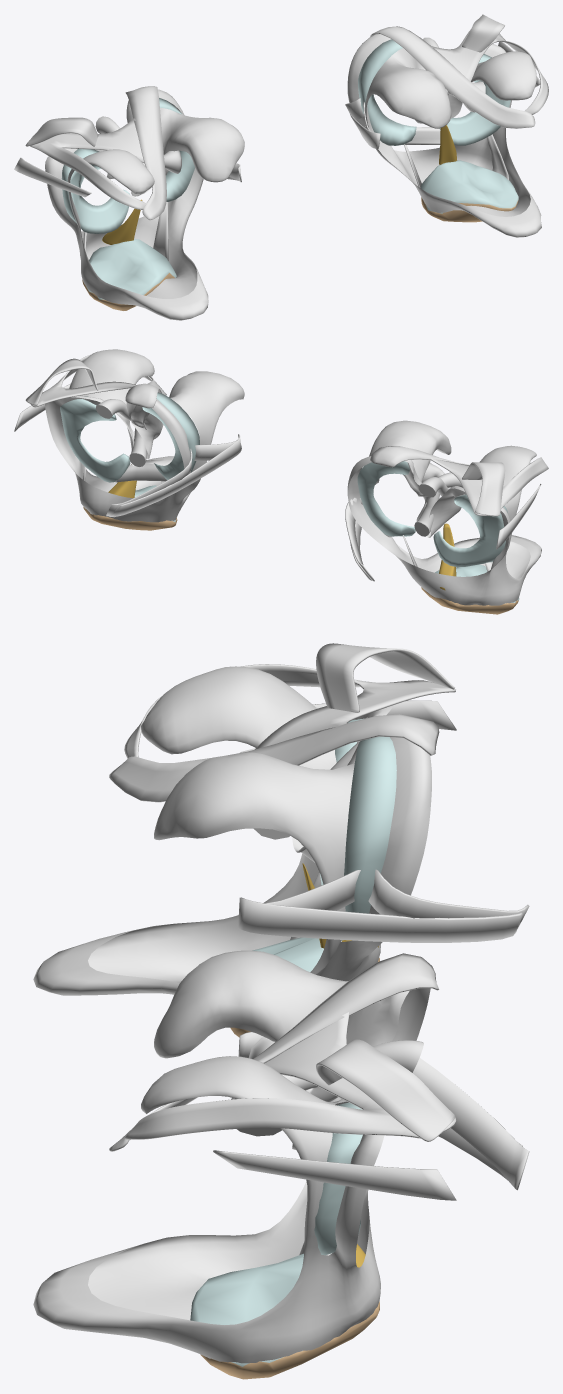
File: Knee.fbx
3 views of the same model, one above another, from view 1: azimuth 30°, elevation 25°; view 2: azimuth 150°, elevation 25°; view 3: azimuth 270°, elevation 25° (orthographic). The views are drawn at different scales.
Visible parts, largest first — view 1: Articular_capsule_of_knee_joint.r_Generated_Mesh_From_X3D.11, Articular_capsule_of_knee_joint.l_Generated_Mesh_From_X3D.11, Patella.l_Generated_Mesh_From_X3D.277, Oblique_popliteal_ligament.l_Plane.184, Patella.r_Generated_Mesh_From_X3D.277, Arcuate_ligament.r_Plane.232, Oblique_popliteal_ligament.r_Plane.184, Medial_meniscus.l_Generated_Mesh_From_X3D.047, Lateral_meniscus.r_Generated_Mesh_From_X3D.049, Arcuate_ligament.l_Plane.232, Lateral_meniscus.l_Generated_Mesh_From_X3D.049, Popliteofibular_ligament.r_Plane.164 (+9 smaller); view 2: Articular_capsule_of_knee_joint.l_Generated_Mesh_From_X3D.11, Articular_capsule_of_knee_joint.r_Generated_Mesh_From_X3D.11, Lateral_meniscus.l_Generated_Mesh_From_X3D.049, Lateral_meniscus.r_Generated_Mesh_From_X3D.049, Medial_meniscus.r_Generated_Mesh_From_X3D.047, Arcuate_ligament.r_Plane.232, Superficial_part_of_tibial_collateral_ligament.l_Plane.145, Popliteofibular_ligament.r_Plane.164, Medial_meniscus.l_Generated_Mesh_From_X3D.047, Arcuate_ligament.l_Plane.232, Patella.r_Generated_Mesh_From_X3D.277, Deep_part_of_tibial_collateral_ligament.l_Plane.221 (+13 smaller); view 3: Articular_capsule_of_knee_joint.l_Generated_Mesh_From_X3D.11, Articular_capsule_of_knee_joint.r_Generated_Mesh_From_X3D.11, Arcuate_ligament.l_Plane.232, Superficial_part_of_tibial_collateral_ligament.r_Plane.145, Patella.l_Generated_Mesh_From_X3D.277, Oblique_popliteal_ligament.r_Plane.184, Medial_meniscus.r_Generated_Mesh_From_X3D.047, Popliteofibular_ligament.l_Plane.164, Oblique_popliteal_ligament.l_Plane.184, Arcuate_ligament.r_Plane.232, Fibular_collateral_ligament.l_Plane.205, Deep_part_of_tibial_collateral_ligament.l_Plane.221 (+6 smaller).
Part boxes in pixels (box(x1,y1,x2,y2)): Articular_capsule_of_knee_joint.r_Generated_Mesh_From_X3D.11: box(45, 89, 244, 320); Articular_capsule_of_knee_joint.l_Generated_Mesh_From_X3D.11: box(347, 34, 541, 237); Patella.l_Generated_Mesh_From_X3D.277: box(421, 160, 518, 222); Oblique_popliteal_ligament.l_Plane.184: box(370, 26, 535, 128); Patella.r_Generated_Mesh_From_X3D.277: box(82, 239, 176, 310); Arcuate_ligament.r_Plane.232: box(30, 118, 146, 209); Oblique_popliteal_ligament.r_Plane.184: box(125, 86, 166, 220); Medial_meniscus.l_Generated_Mesh_From_X3D.047: box(358, 39, 416, 145); Lateral_meniscus.r_Generated_Mesh_From_X3D.049: box(61, 149, 129, 233); Arcuate_ligament.l_Plane.232: box(430, 29, 548, 114); Lateral_meniscus.l_Generated_Mesh_From_X3D.049: box(439, 54, 510, 145); Popliteofibular_ligament.r_Plane.164: box(25, 117, 98, 146); Articular_capsule_of_knee_joint.l_Generated_Mesh_From_X3D.11: box(45, 349, 244, 522); Articular_capsule_of_knee_joint.r_Generated_Mesh_From_X3D.11: box(347, 420, 541, 605); Lateral_meniscus.l_Generated_Mesh_From_X3D.049: box(60, 396, 130, 482); Lateral_meniscus.r_Generated_Mesh_From_X3D.049: box(433, 494, 507, 567); Medial_meniscus.r_Generated_Mesh_From_X3D.047: box(357, 461, 415, 536); Arcuate_ligament.r_Plane.232: box(430, 457, 548, 515); Superficial_part_of_tibial_collateral_ligament.l_Plane.145: box(109, 434, 241, 517); Popliteofibular_ligament.r_Plane.164: box(462, 462, 505, 516); Medial_meniscus.l_Generated_Mesh_From_X3D.047: box(142, 392, 199, 480); Arcuate_ligament.l_Plane.232: box(30, 354, 152, 407); Patella.r_Generated_Mesh_From_X3D.277: box(421, 564, 519, 614); Deep_part_of_tibial_collateral_ligament.l_Plane.221: box(106, 436, 238, 516); Articular_capsule_of_knee_joint.l_Generated_Mesh_From_X3D.11: box(33, 950, 430, 1363); Articular_capsule_of_knee_joint.r_Generated_Mesh_From_X3D.11: box(33, 666, 431, 995); Arcuate_ligament.l_Plane.232: box(124, 1012, 455, 1139); Superficial_part_of_tibial_collateral_ligament.r_Plane.145: box(238, 897, 522, 942); Patella.l_Generated_Mesh_From_X3D.277: box(190, 1253, 379, 1379); Oblique_popliteal_ligament.r_Plane.184: box(109, 714, 439, 802); Medial_meniscus.r_Generated_Mesh_From_X3D.047: box(341, 736, 396, 940); Popliteofibular_ligament.l_Plane.164: box(316, 1039, 455, 1141); Oblique_popliteal_ligament.l_Plane.184: box(109, 953, 438, 1151); Arcuate_ligament.r_Plane.232: box(124, 664, 455, 758); Fibular_collateral_ligament.l_Plane.205: box(213, 1150, 456, 1200); Deep_part_of_tibial_collateral_ligament.l_Plane.221: box(238, 1034, 529, 1190).
Bounding box in the file's own units: 24.06 × 8.41 × 10.69.
